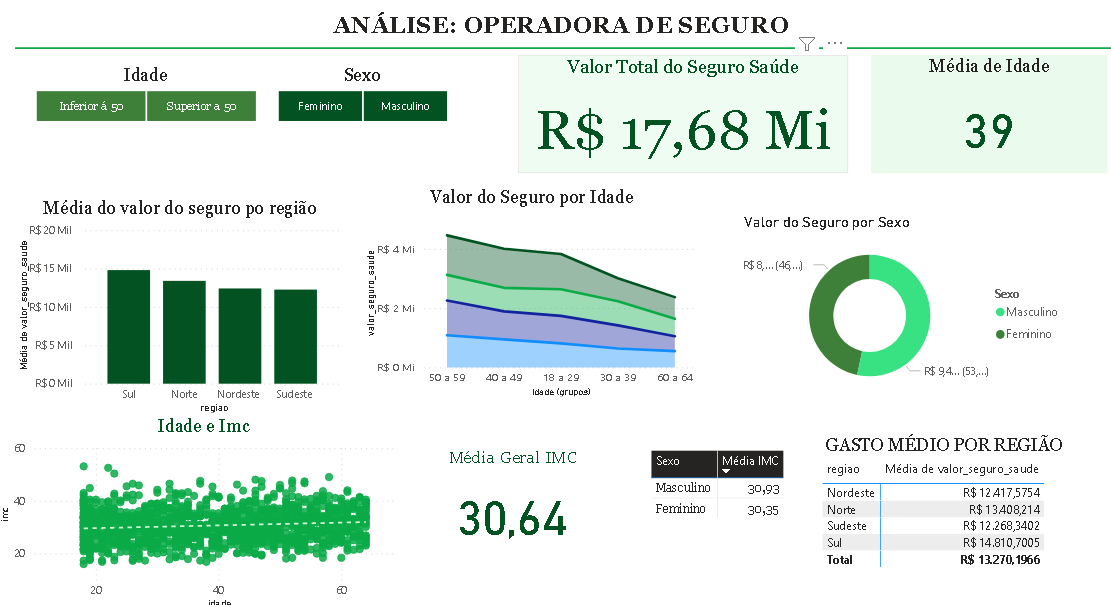

Layout of this report page (visuals, bound fields, positions):
{"tool":"powerbi","page":{"name":"Página 1","canvas":[1280,720],"ordinal":0},"visuals":[{"type":"textbox","box":[10.3,28.3,1269.7,45],"z":0},{"type":"shape","box":[21.7,0,1258.6,150.6],"z":1},{"type":"card","title":"Valor Total do Seguro Saúde","fields":{"Values":["Sum(seguro_saude.valor_seguro_saude)"]},"box":[595.6,83.3,376.5,134.6],"z":2},{"type":"card","title":"Média de Idade","fields":{"Values":["seguro_saude.Medida_idade"]},"box":[998.4,83.3,270.4,134.6],"z":3},{"type":"clusteredColumnChart","title":"Média do valor do seguro po região","fields":{"Y":["Avg(seguro_saude.valor_seguro_saude)"],"Category":["seguro_saude.regiao"]},"box":[21.7,245.3,376.5,251],"z":4},{"type":"stackedAreaChart","title":"Valor do Seguro por Idade","fields":{"Category":["seguro_saude.idade (grupos)"],"Series":["seguro_saude.regiao"],"Y":["Sum(seguro_saude.valor_seguro_saude)"]},"box":[417.6,232.8,388,245.3],"z":5},{"type":"scatterChart","title":"Idade e Imc","fields":{"X":["seguro_saude.idade"],"Y":["seguro_saude.imc"]},"box":[0,494.1,474.7,225.9],"z":6},{"type":"donutChart","title":"Valor do Seguro por Sexo","fields":{"Y":["Sum(seguro_saude.valor_seguro_saude)"],"Category":["seguro_saude.sexo"]},"box":[848.9,263.6,377.7,214.5],"z":7},{"type":"card","title":"Média Geral IMC","fields":{"Values":["seguro_saude.Média IMC"]},"box":[456.4,529.4,267,127.8],"z":8},{"type":"tableEx","fields":{"Values":["seguro_saude.sexo","seguro_saude.Média IMC"]},"box":[741.7,529.4,164.3,97],"z":9},{"type":"pivotTable","title":"GASTO MÉDIO POR REGIÃO","fields":{"Rows":["seguro_saude.regiao"],"Values":["Avg(seguro_saude.valor_seguro_saude)"]},"box":[937.9,515.8,288.7,182.6],"z":10},{"type":"slicer","title":"Idade","fields":{"Values":["seguro_saude.idade (grupos) 2"]},"box":[20.5,93.6,300.1,71.9],"z":11},{"type":"slicer","title":"Sexo","fields":{"Values":["seguro_saude.Sexo"]},"box":[296.7,93.6,241.9,71.9],"z":12}]}

Visuals, with their boxes on the page's 1280x720 design canvas (x1, y1, x2, y2). These are canvas units, not pixel positions in the 1111x605 screenshot, which may show the page scaled, cropped or inside an application window:
textbox: <region>10, 28, 1280, 73</region>
shape: <region>22, 0, 1280, 151</region>
"Valor Total do Seguro Saúde" card: <region>596, 83, 972, 218</region>
"Média de Idade" card: <region>998, 83, 1269, 218</region>
"Média do valor do seguro po região" clusteredColumnChart: <region>22, 245, 398, 496</region>
"Valor do Seguro por Idade" stackedAreaChart: <region>418, 233, 806, 478</region>
"Idade e Imc" scatterChart: <region>0, 494, 475, 720</region>
"Valor do Seguro por Sexo" donutChart: <region>849, 264, 1227, 478</region>
"Média Geral IMC" card: <region>456, 529, 723, 657</region>
tableEx - seguro_saude.sexo x seguro_saude.Média IMC: <region>742, 529, 906, 626</region>
"GASTO MÉDIO POR REGIÃO" pivotTable: <region>938, 516, 1227, 698</region>
"Idade" slicer: <region>20, 94, 321, 166</region>
"Sexo" slicer: <region>297, 94, 539, 166</region>
